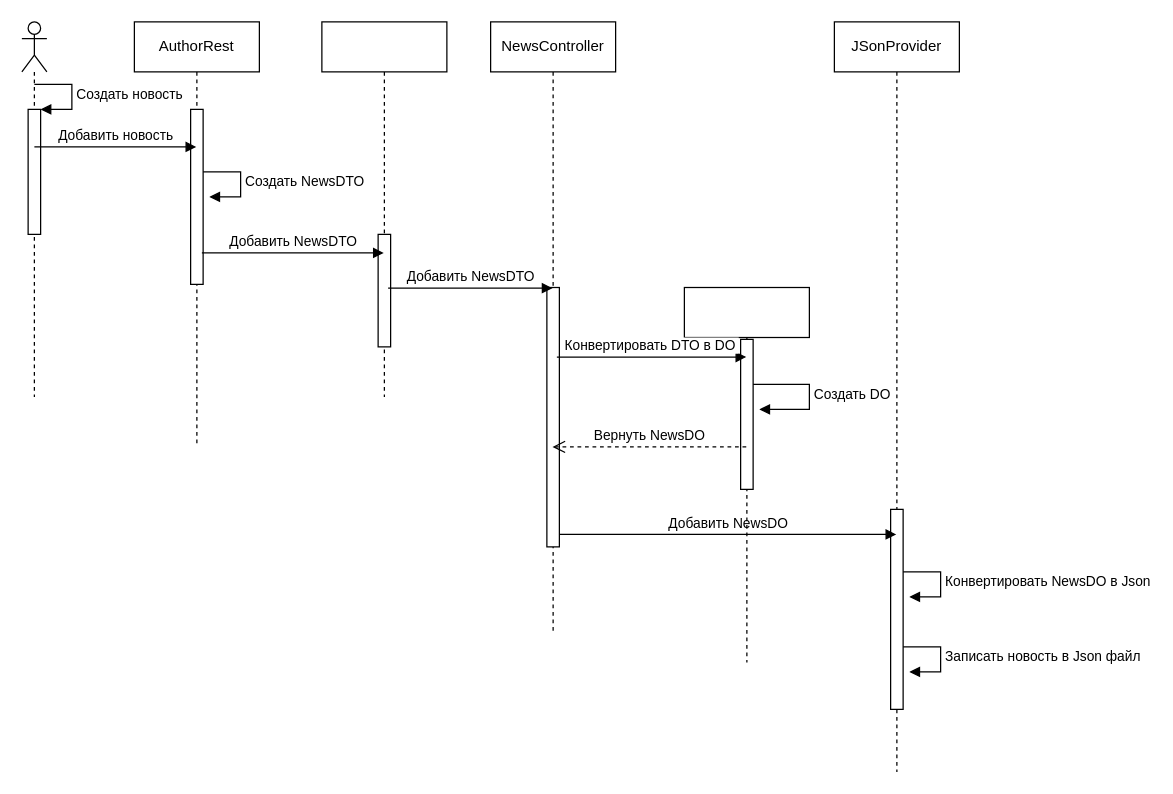
The diagram is 1173 pixels wide and 794 high, and some of its shapes have lost their labels. The shapes that lost their labels are listed below. From the top down, each one's box as (x1, y1, x2, y2) in pixels, then its label:
(321, 21, 447, 397): Facade
(683, 286, 809, 662): Converter
